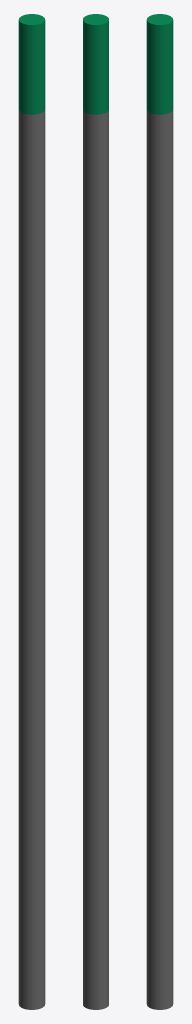
Rendered from Updated005B54.glb.
The picture shows the model from 3 angles, left to right: view 1: azimuth 90°, elevation 25°; view 2: azimuth 150°, elevation 25°; view 3: azimuth 270°, elevation 25°; orthographic projection.
Visible parts, largest first — view 1: Long_Electrode_Body, Long_Electrode_Tip; view 2: Long_Electrode_Body, Long_Electrode_Tip; view 3: Long_Electrode_Body, Long_Electrode_Tip.
Boxes of the visible parts, box(x1,y1,x2,y2) form: Long_Electrode_Body: box(18, 109, 45, 1009); Long_Electrode_Tip: box(18, 14, 45, 114); Long_Electrode_Body: box(83, 110, 108, 1009); Long_Electrode_Tip: box(83, 14, 108, 114); Long_Electrode_Body: box(146, 109, 173, 1009); Long_Electrode_Tip: box(146, 14, 173, 114).
Size of the model in its own units: 0.4 by 16.5 by 0.4.
